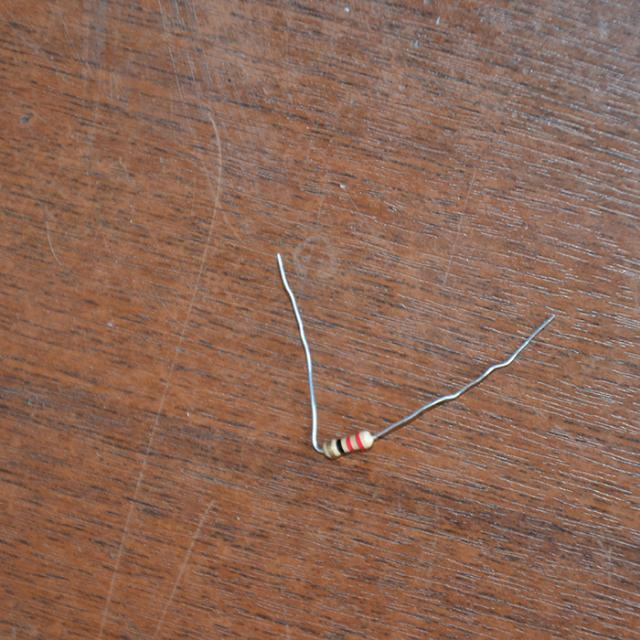black: (336, 440, 342, 455)
gold: (326, 443, 334, 455)
red: (355, 433, 363, 449), (346, 438, 353, 451)
resistor: (319, 422, 382, 466)
